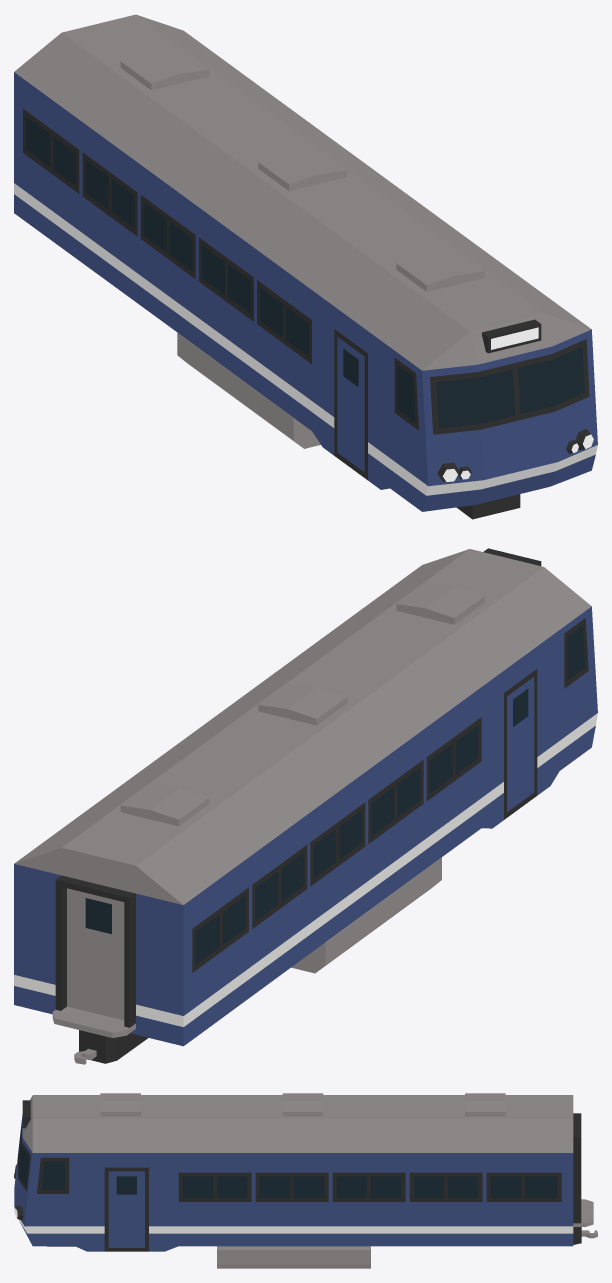
File: train-passenger-base.glb
3 views of the same model, one above another, from view 1: azimuth 30°, elevation 25°; view 2: azimuth 150°, elevation 25°; view 3: azimuth 270°, elevation 25° (orthographic). The views are drawn at different scales.
Visible parts, largest first — view 1: train-passenger-base; view 2: train-passenger-base; view 3: train-passenger-base.
Boxes of the visible parts, x1,y1,x2,y2 form: train-passenger-base: (14, 14, 597, 519); train-passenger-base: (14, 548, 597, 1064); train-passenger-base: (14, 1093, 597, 1268).
Size of the model in its own units: 3.2 by 4.01 by 14.41.
Materials: 1 (1 with a texture image).
